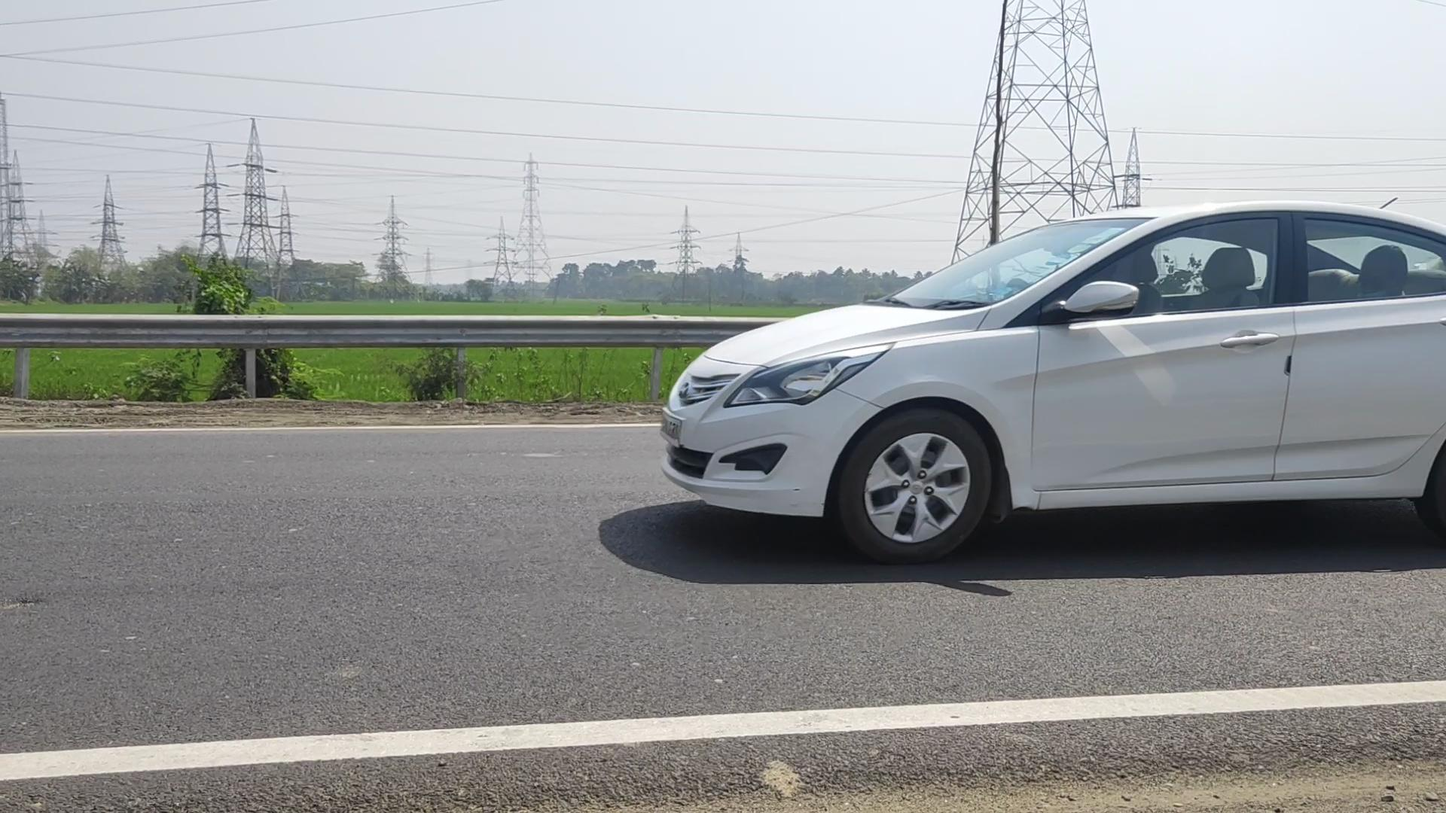car: (660, 203, 1446, 566)
